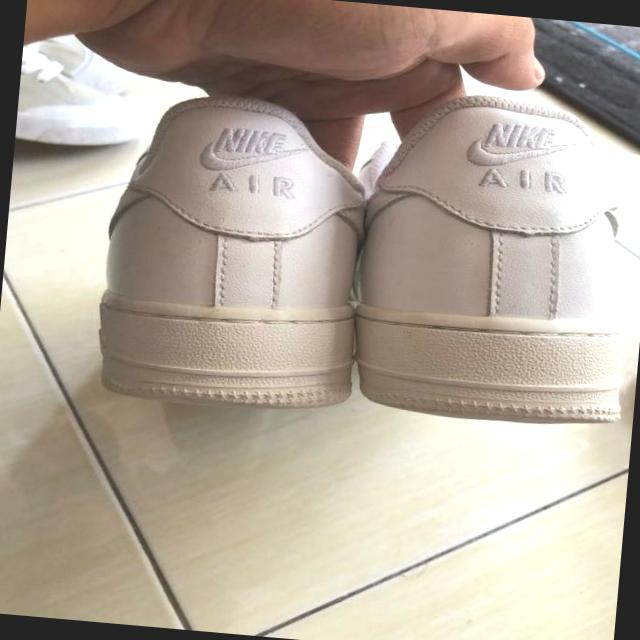nike_fake_airforce: (291, 21, 640, 429), (76, 79, 390, 408)
